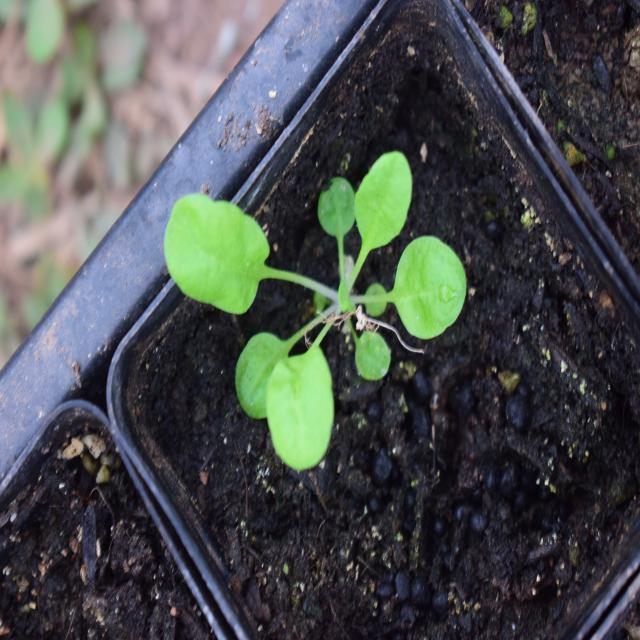Shepherd_Purse: (166, 146, 464, 473)
